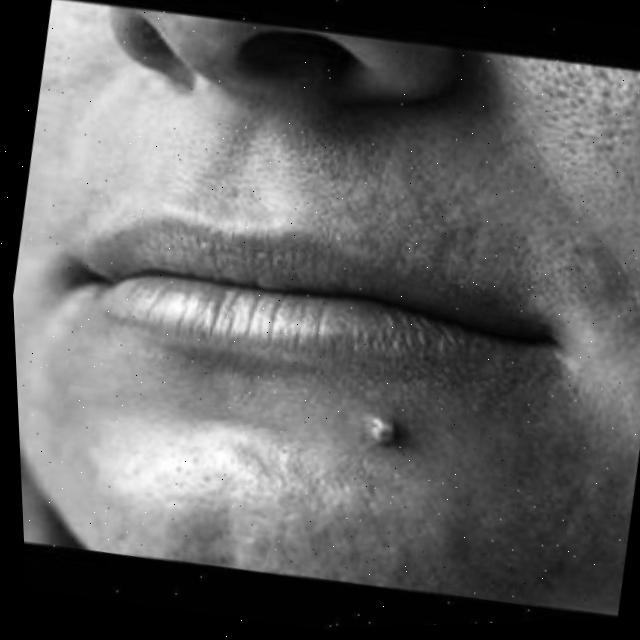Acne: (360, 409, 403, 451)
